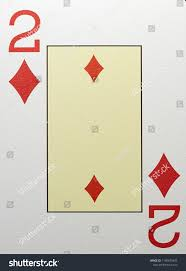two of diamonds: (4, 7, 182, 251)
